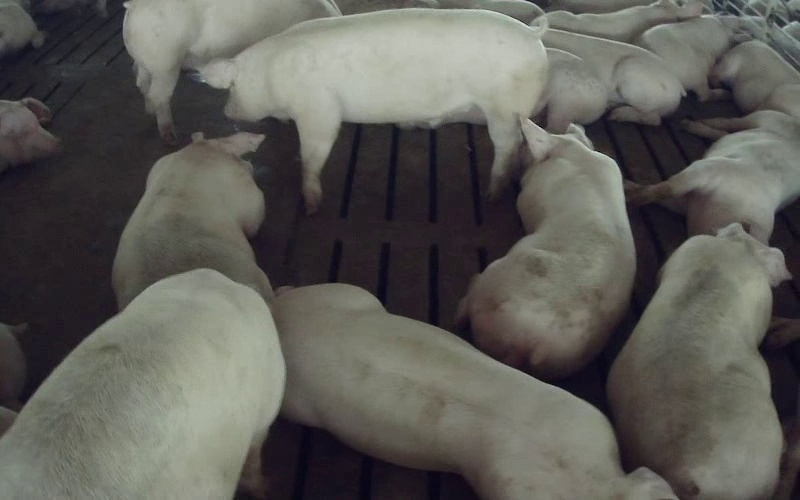pig: (274, 284, 673, 499), (201, 10, 547, 213), (0, 269, 284, 499), (607, 223, 787, 499), (457, 119, 635, 377), (123, 0, 340, 142), (112, 132, 272, 308), (626, 110, 799, 243), (542, 29, 684, 124), (638, 15, 751, 100), (710, 40, 799, 117)
